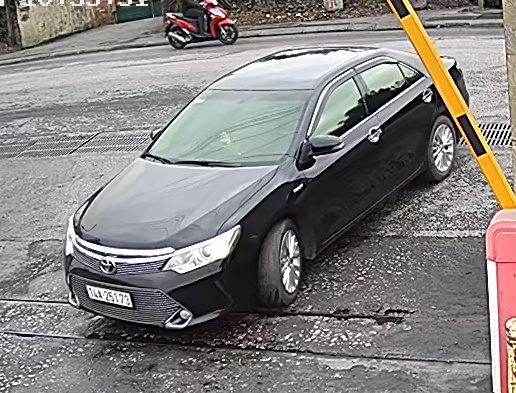vehicle plate: (81, 282, 134, 310)
